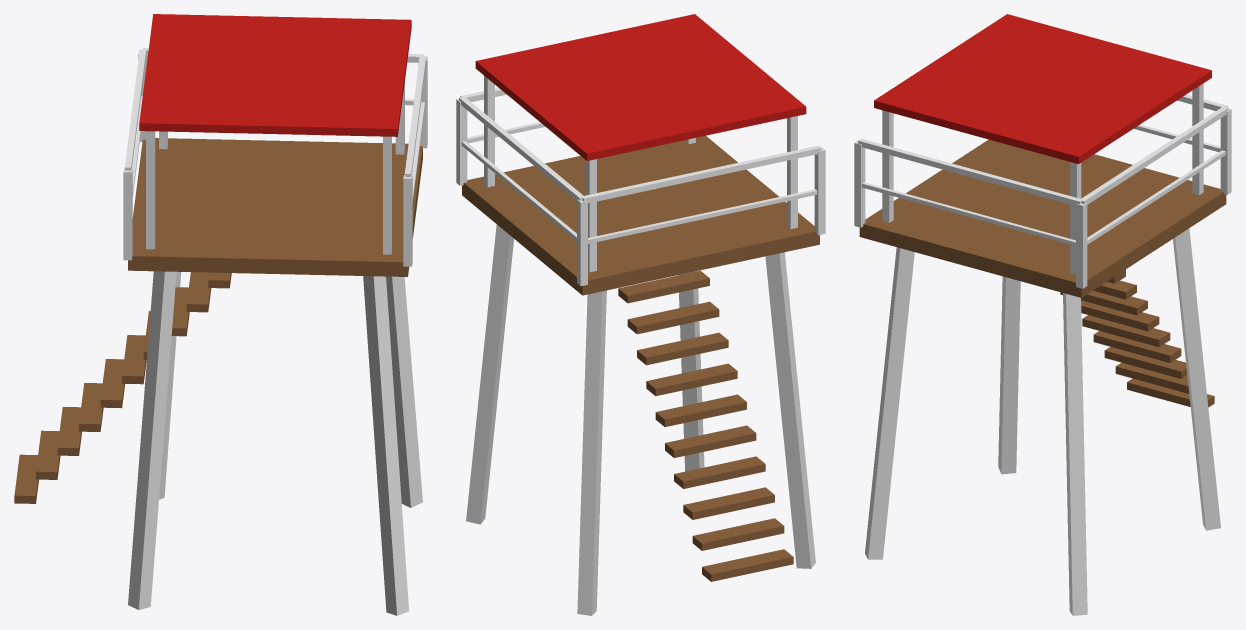
File: SM_Beach_Lifeguard.fbx
The picture shows the model from 3 angles, left to right: view 1: azimuth 30°, elevation 25°; view 2: azimuth 150°, elevation 25°; view 3: azimuth 270°, elevation 25°; orthographic projection. The views are drawn at different scales.
Visible parts, largest first — view 1: SM_Beach_Lifeguard; view 2: SM_Beach_Lifeguard; view 3: SM_Beach_Lifeguard.
Part boxes in pixels (x1=…): SM_Beach_Lifeguard: x1=14, y1=14, x2=427, y2=615; SM_Beach_Lifeguard: x1=456, y1=14, x2=825, y2=615; SM_Beach_Lifeguard: x1=854, y1=14, x2=1231, y2=615.
Bounding box in the file's own units: 4.11 × 4.95 × 3.71.
